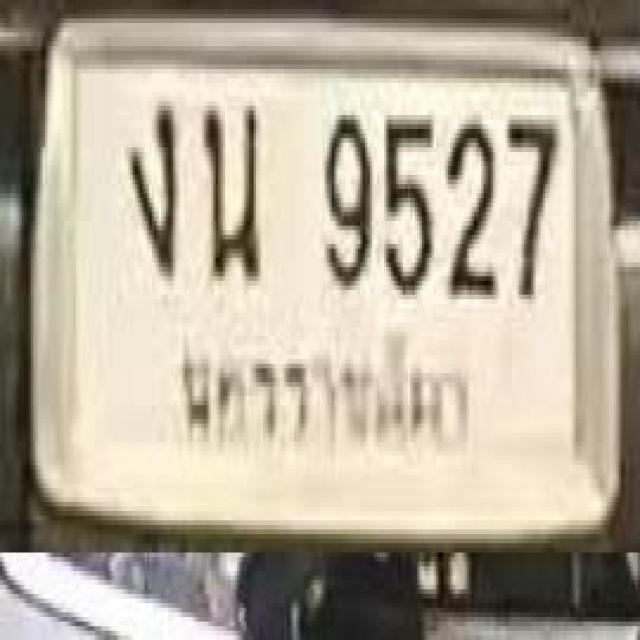license_plate: (27, 10, 624, 544)
